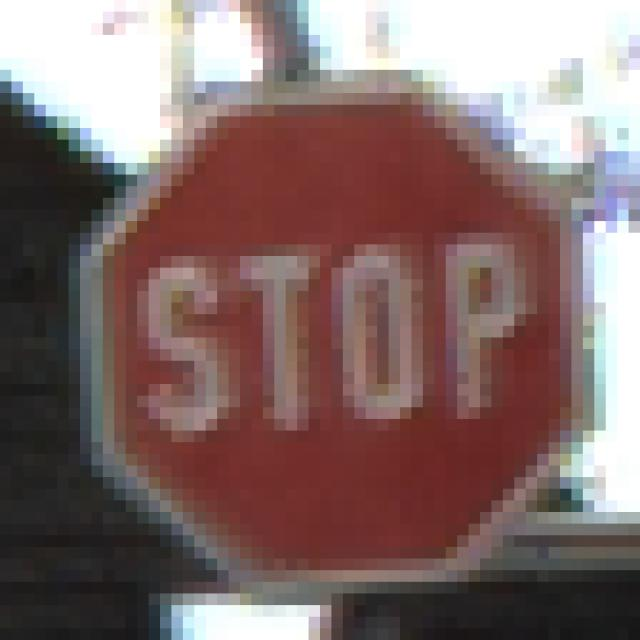STOP: (70, 71, 573, 583)
